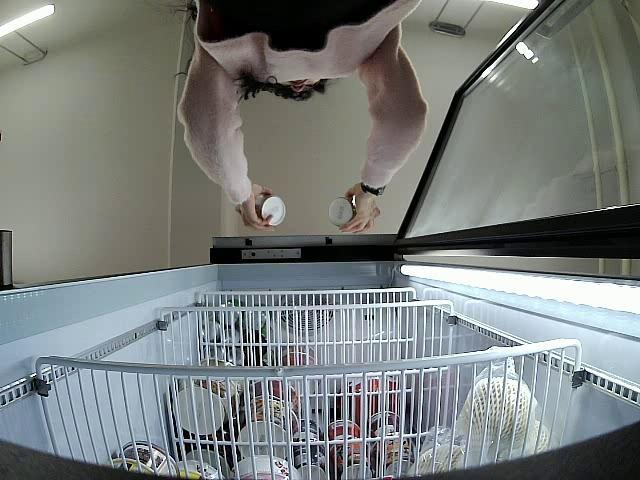04_chapagetti_S: (252, 191, 288, 227), (327, 193, 361, 229)
